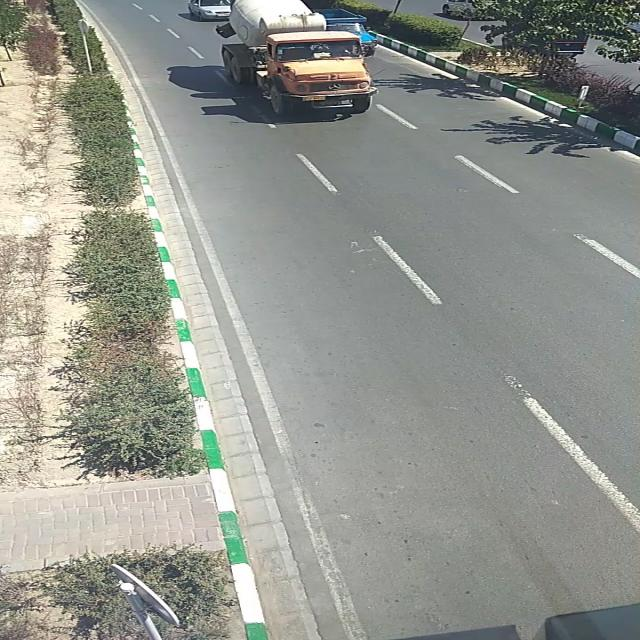car: (185, 1, 232, 19)
truck: (226, 0, 374, 112)
